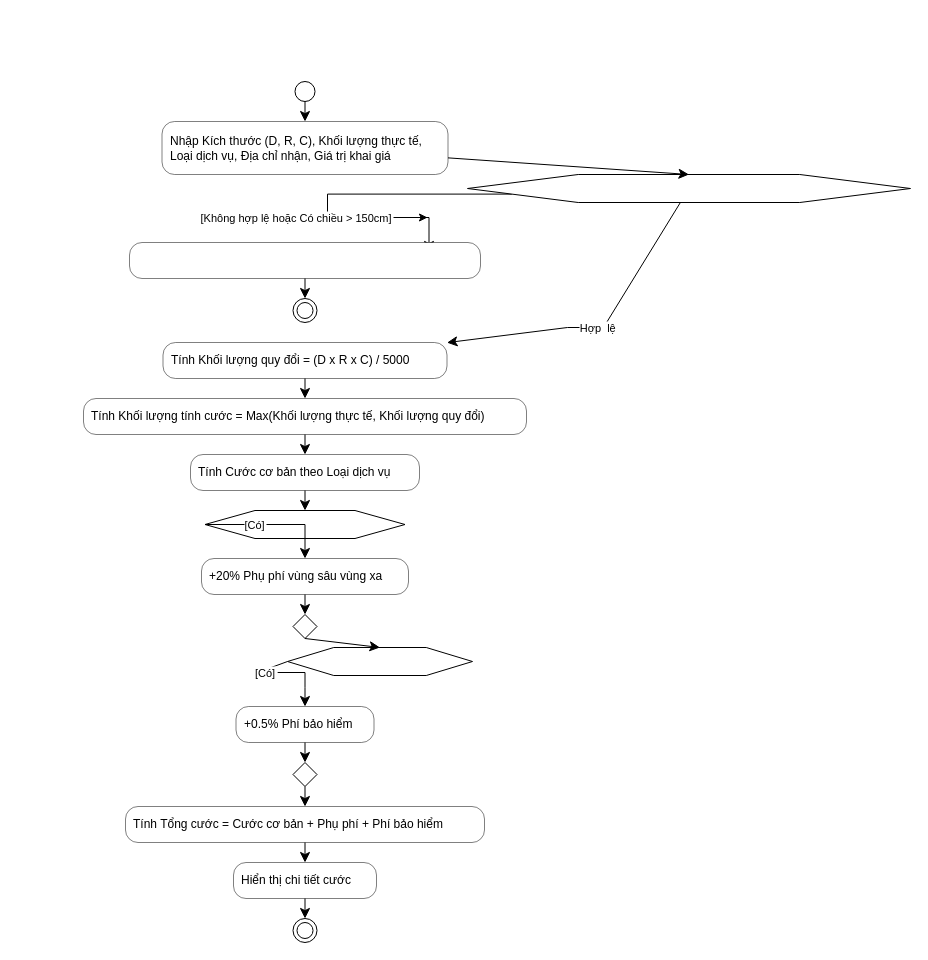
Some shapes in this 928 by 960 pixel diagram are drawn without their labels. The shapes that lost their labels are listed below. From the top down, each one's centre as x and y in pixels, then its label:
the point at 688,188: Kiểm tra dữ liệu nhập & Bẫy ràng buộc?
the point at 304,260: Hiển thị thông báo lỗi (Dữ liệu/Kích thước không hợp lệ)
the point at 304,524: Địa chỉ thuộc Vùng sâu vùng xa?
the point at 379,661: Giá trị khai giá > 5.000.000đ?
